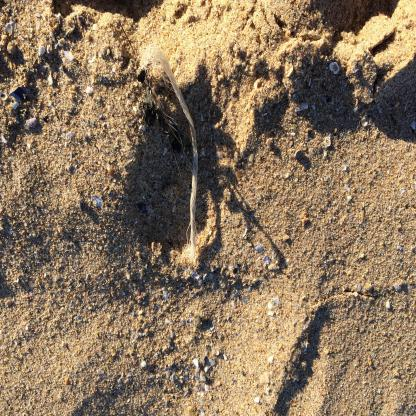diger: (151, 46, 201, 262)
